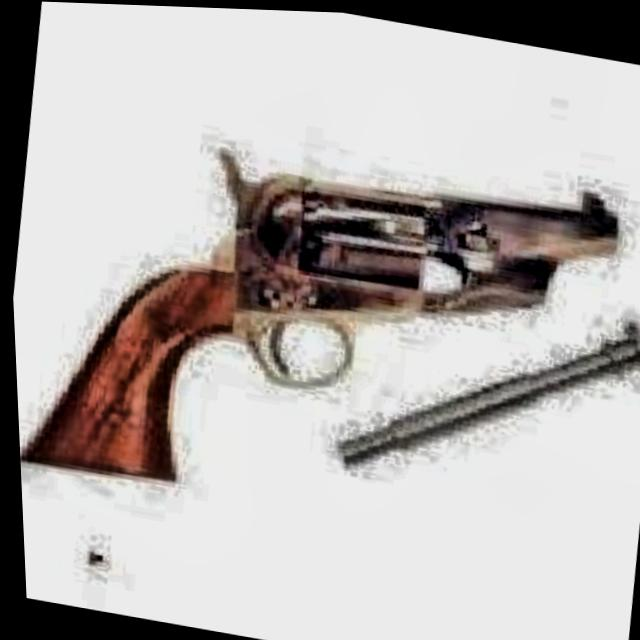pistol: (3, 89, 633, 557)
